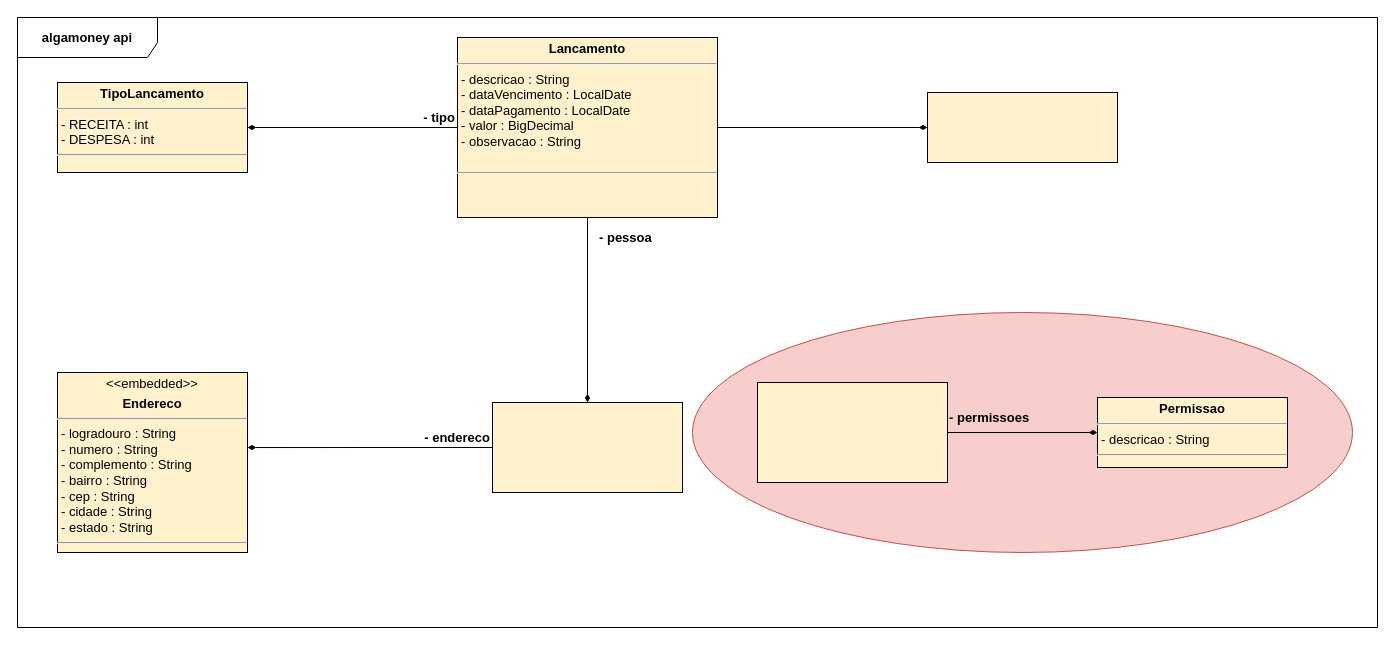
Image size: 1395x645. Some labels were removed from this diagram. The centre of each missing label's shape, as x and y in pixels:
"Categoria - nome : String" goes at [1022,127].
"Pessoa - nome : String - ativo : boolean" goes at [587,447].
"Usuario - nome : String - email : String - senha: String" goes at [852,432].
